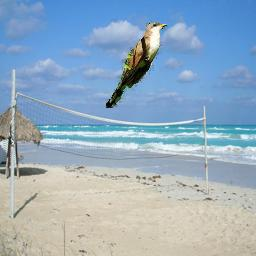Cuckoo: (106, 22, 168, 109)
